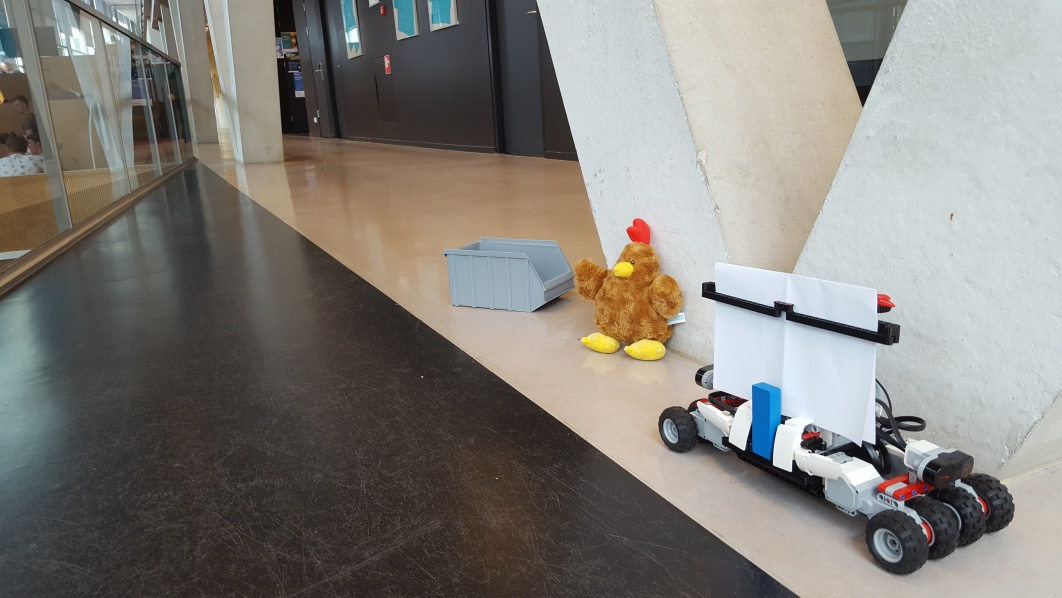car: (659, 261, 1016, 577)
chicken: (574, 217, 688, 365)
tray: (440, 238, 578, 316)
